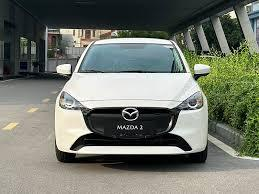mazda: (118, 104, 144, 125)
